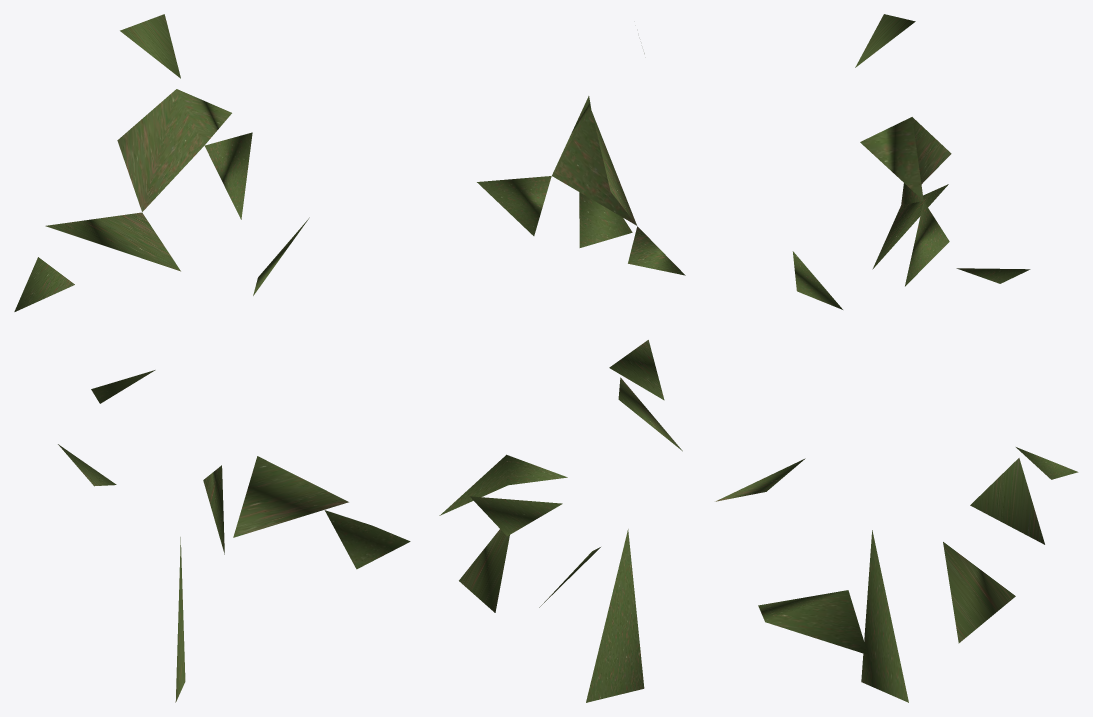
Rendered from abies-sapling-l5.glb.
3 views of the same model, side by side, from view 1: azimuth 30°, elevation 25°; view 2: azimuth 150°, elevation 25°; view 3: azimuth 270°, elevation 25° (orthographic). The views are drawn at different scales.
Parts seen in each view (by area): view 1: world; view 2: world; view 3: world.
Part boxes in pixels (x1=…): world: x1=14, y1=14, x2=410, y2=702; world: x1=439, y1=53, x2=685, y2=702; world: x1=715, y1=14, x2=1078, y2=702.
Size of the model in its own units: 1.32 by 2.96 by 1.45.
Materials: 1 (1 with a texture image).
